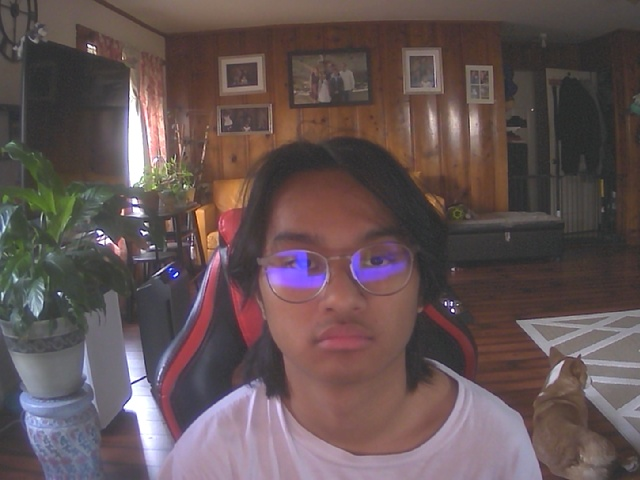neutral: (251, 142, 432, 387)
